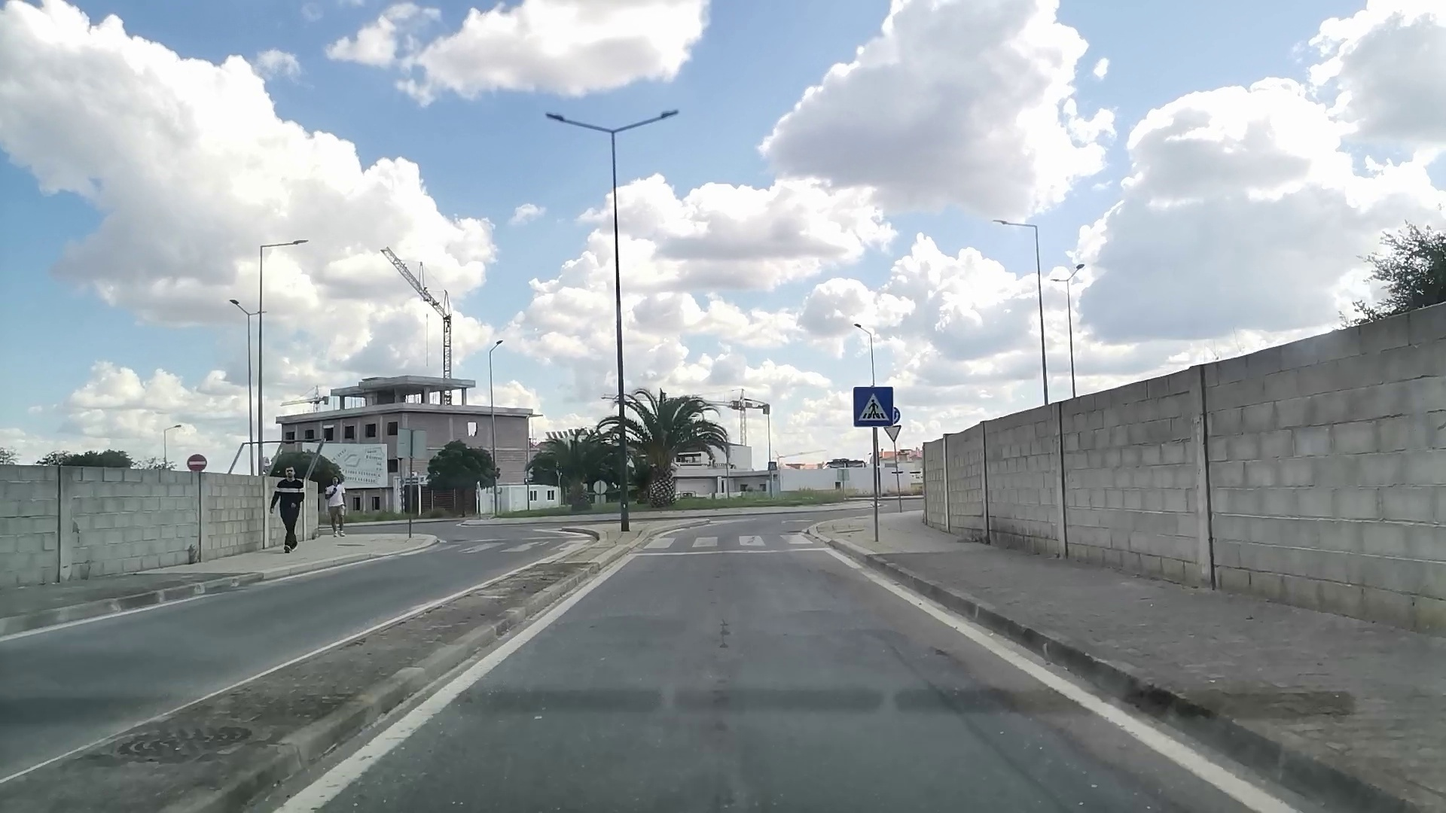Stairs: (394, 538, 570, 563), (640, 529, 813, 551)
